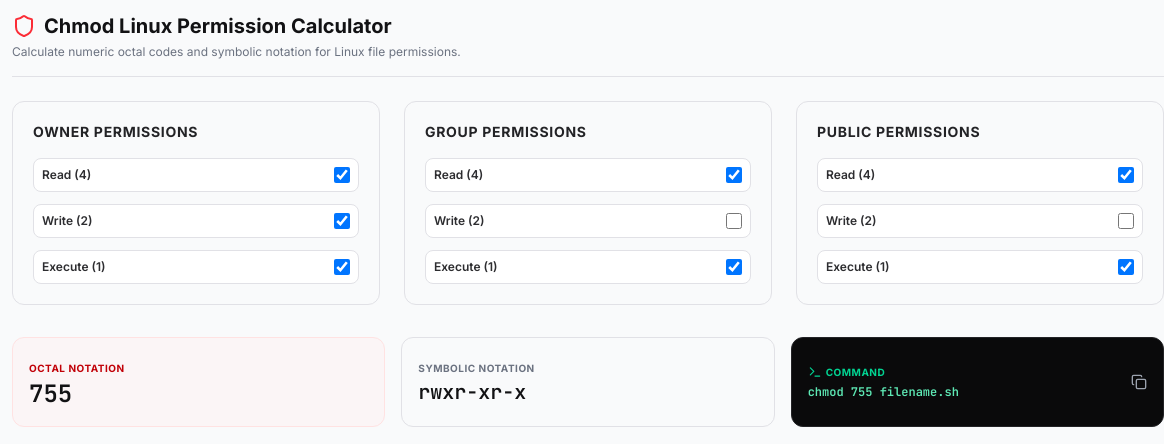
Test: ChmodTool Component › updates permissions when checkboxes are clicked
The image size is (1164, 444).
Click the checkbox labelled "execute (1)" below "owner" at (342, 267), box [334,259,350,275]
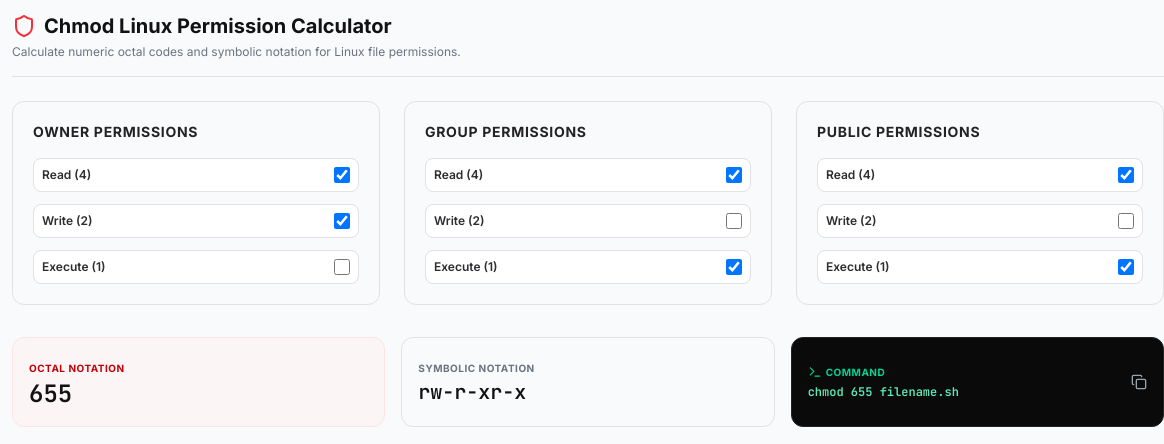
Now the text "655" is shown, box [29,378,72,409]
Now the text "rw-r-xr-x" is shown, box [418,379,526,405]
Click the checkbox labelled "write (2)" below "group" at (734, 221), box [726,213,742,229]
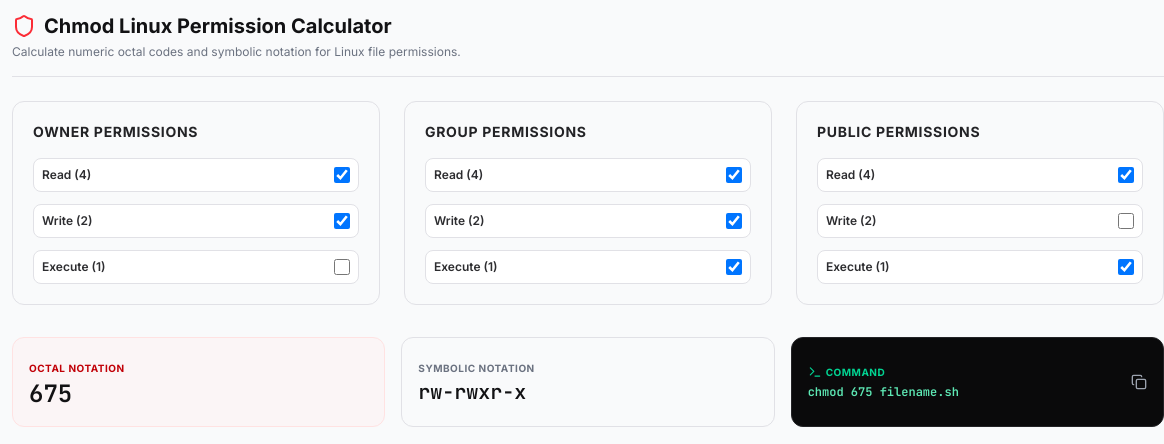
Now the text "675" is shown, box [29,378,72,409]
Now the text "rw-rwxr-x" is shown, box [418,379,526,405]
